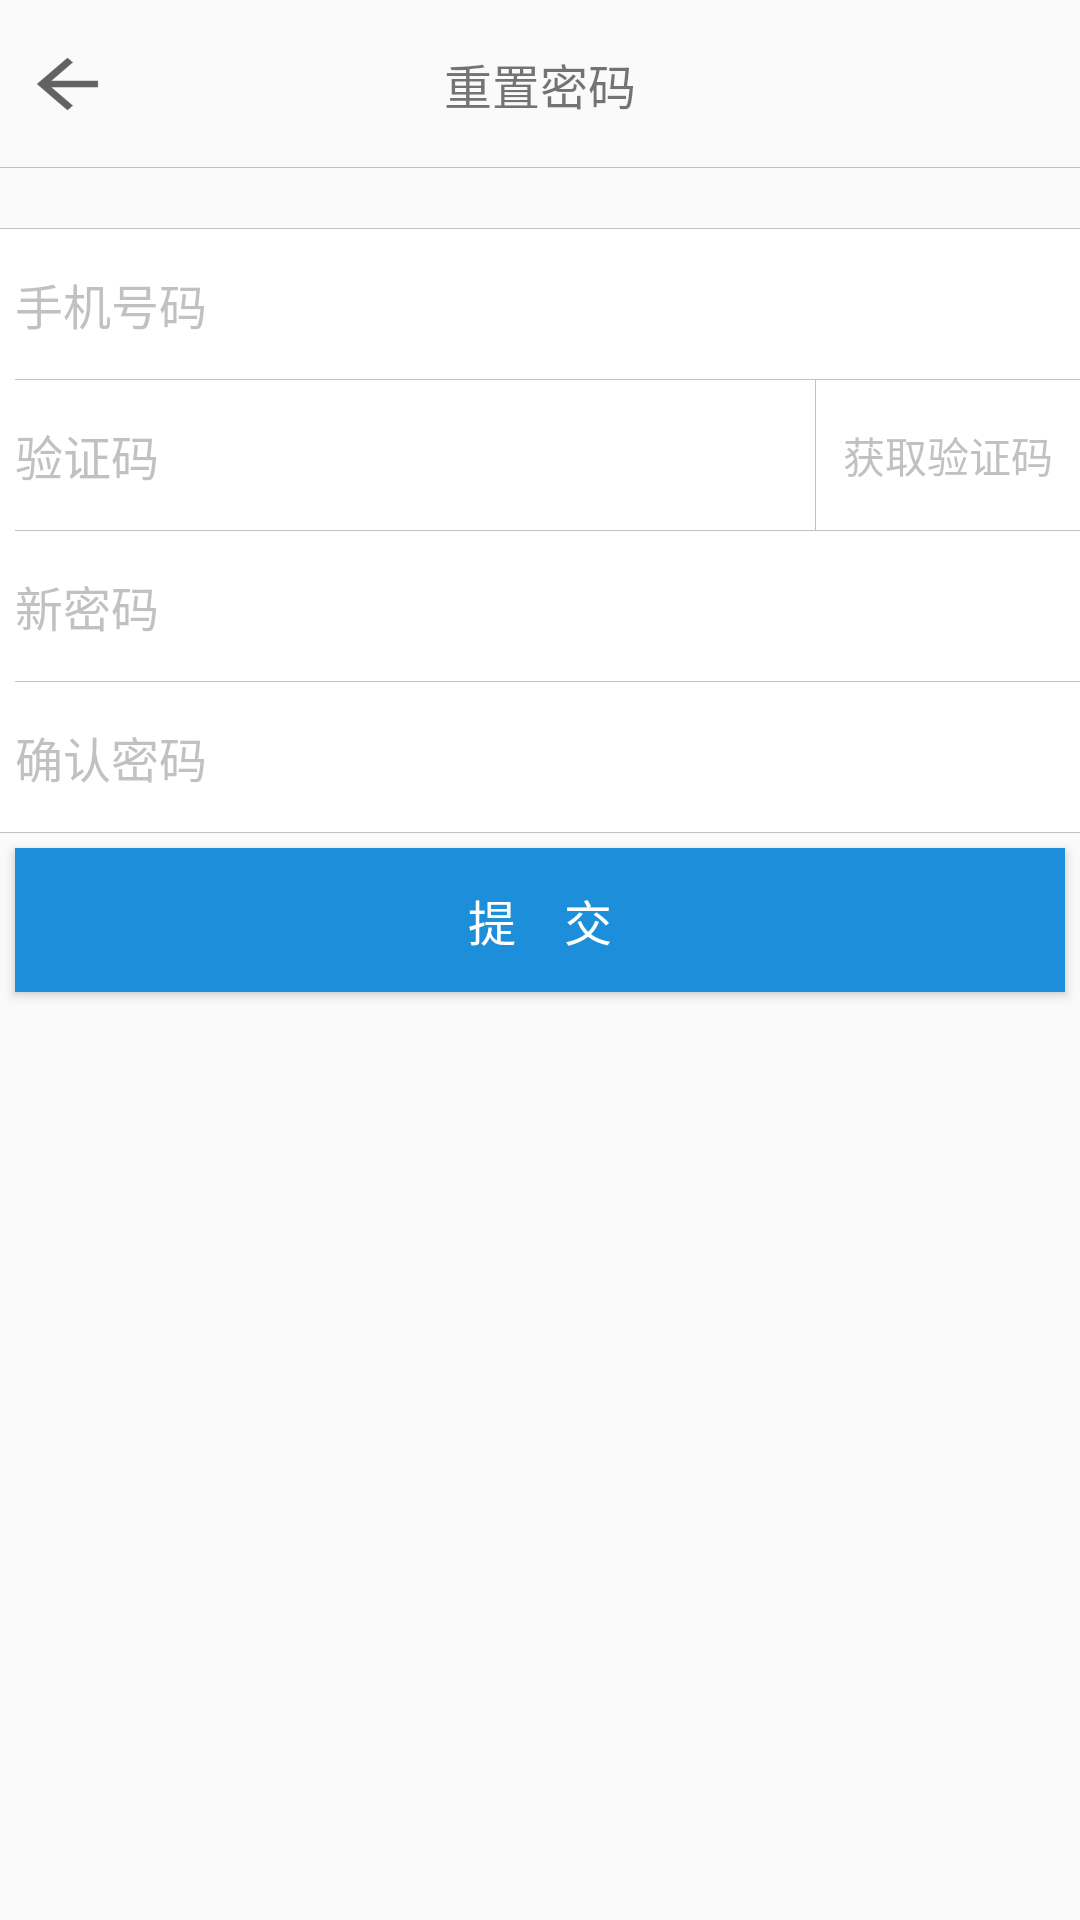

Named icons in this screenshot (1080px x 1920px) and their bounding boxes, (x1, y1, x2, y2):
back: (37, 58, 98, 110)
